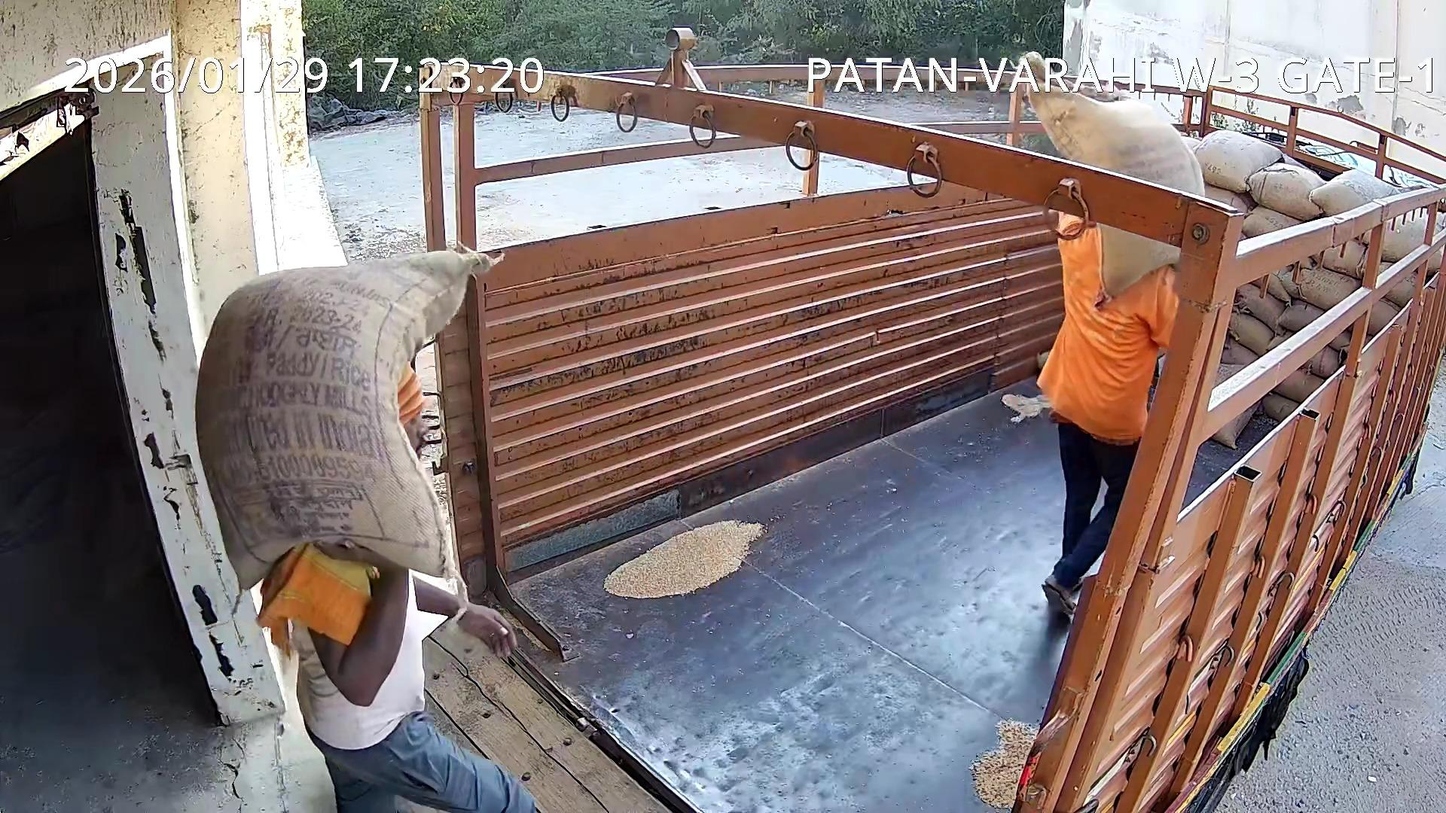Sack: (195, 246, 493, 588), (1023, 82, 1204, 193), (1101, 226, 1179, 294)
